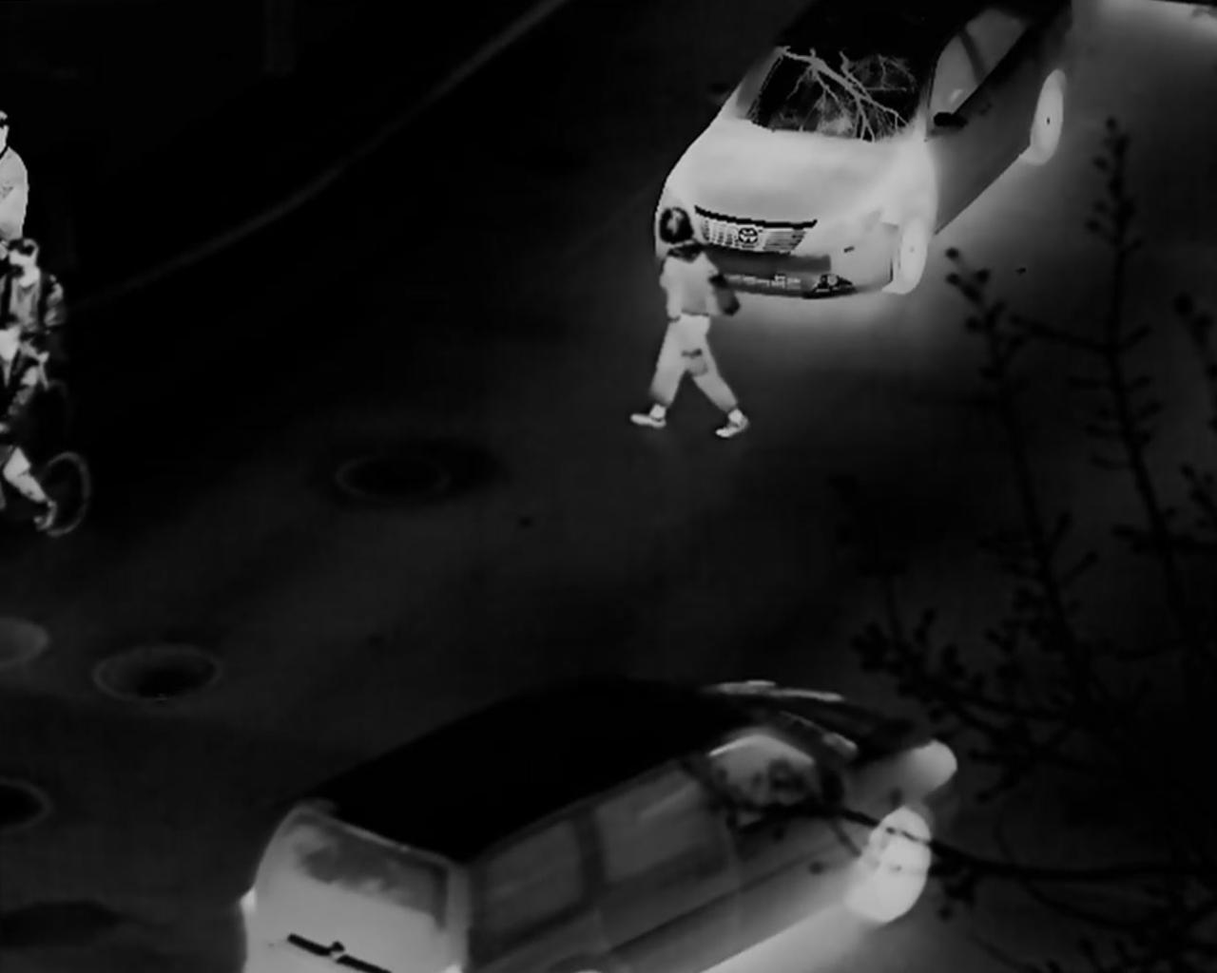person: (628, 205, 750, 437)
